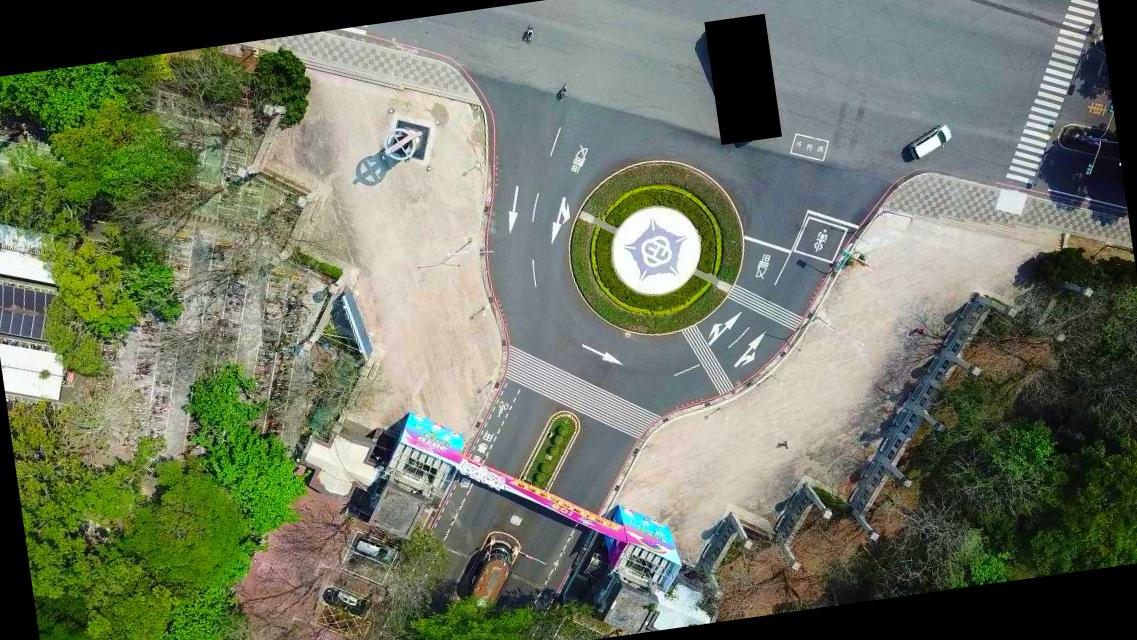vehicle: (906, 123, 954, 161), (323, 582, 369, 620), (354, 530, 397, 566)
